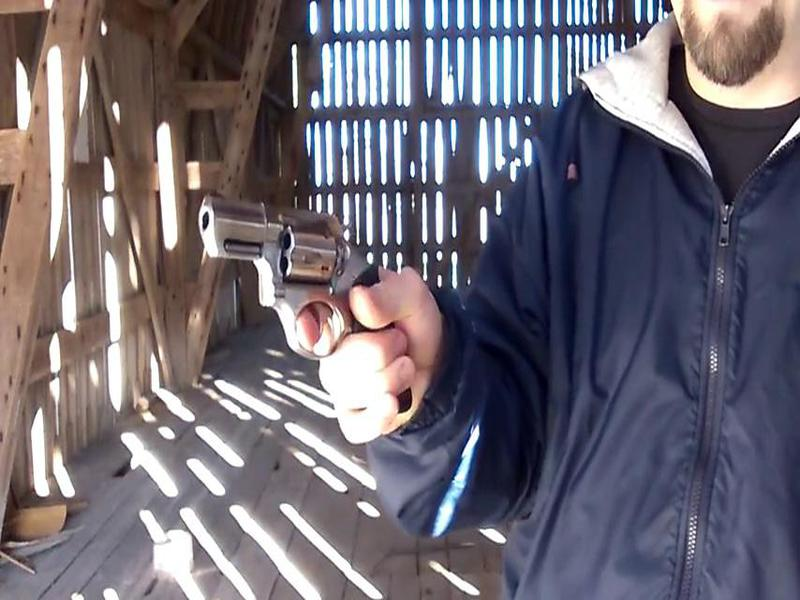Revolver: (195, 174, 407, 374)
